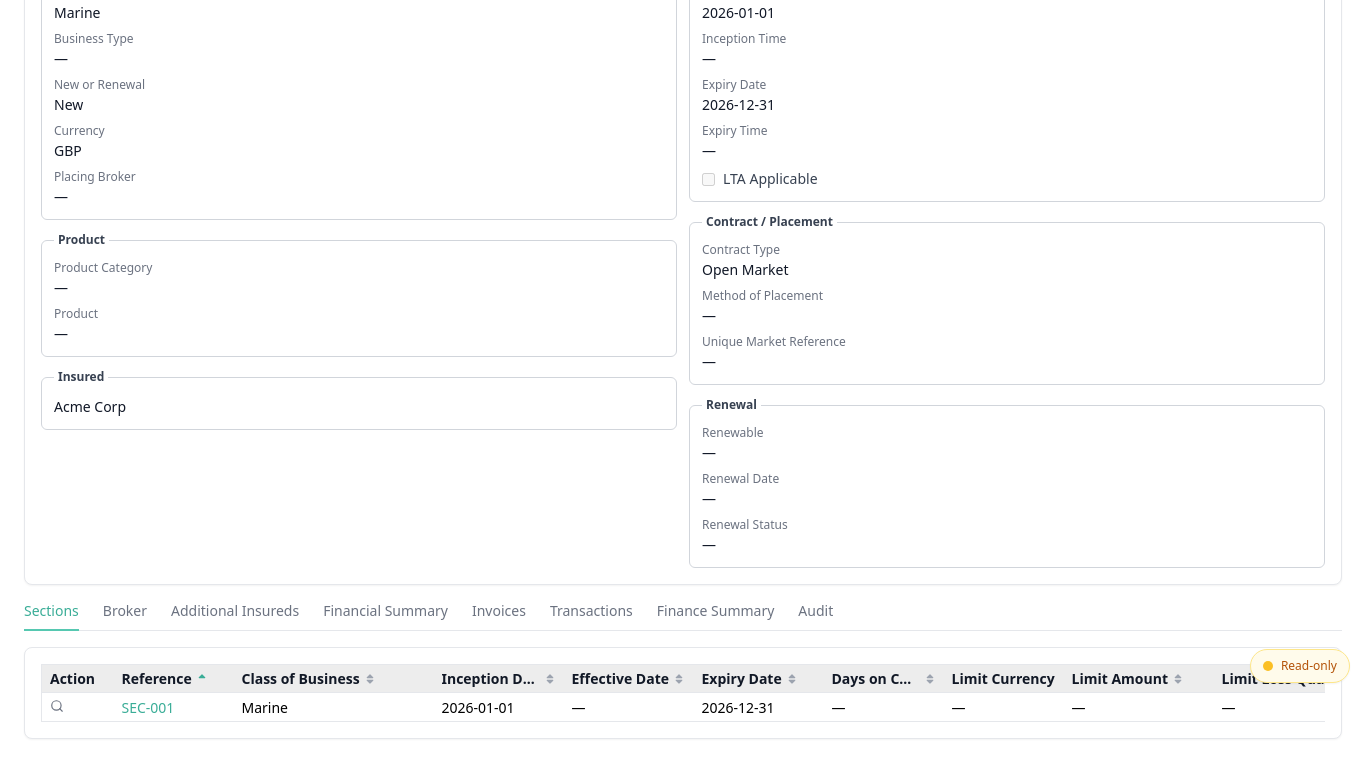
T-EARN-FE-006: REQ-EARN-F-016 — Finance Summary tab rendered on PolicyViewPage › T-EARN-FE-006b: Finance Summary tab on Policy view displays aggregate earned and unearned totals
This screenshot has width=1366, height=763.
(page scrolled)
Click the button "Finance Summary" at x=716, y=616, box [657,601,774,631]
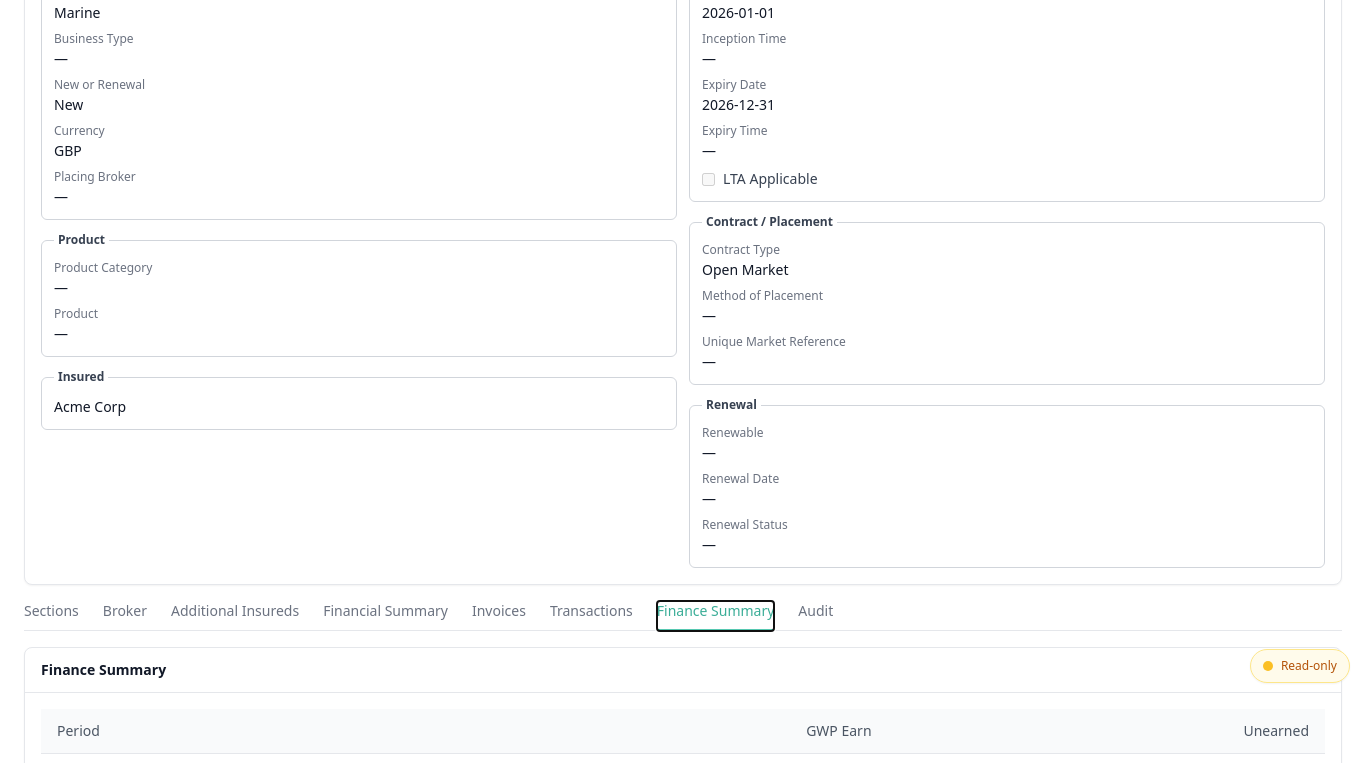
Result: the column heading "Unearned" is shown at [888,709,1325,754]
